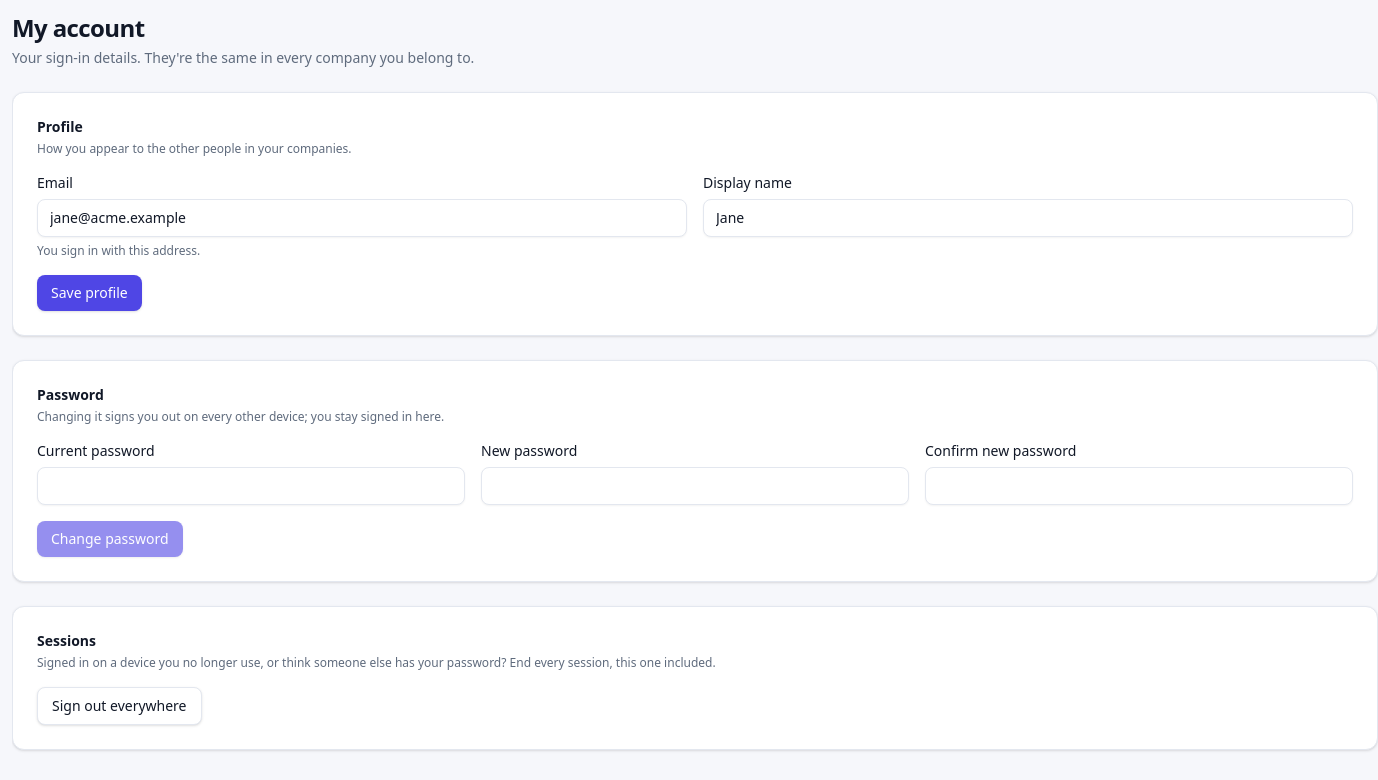
Scenario: AccountPage › does not send mismatched new passwords
Type "Old-Passw0rd!" into the password field labelled "Current password" at (251, 486), box [37,467,465,505]
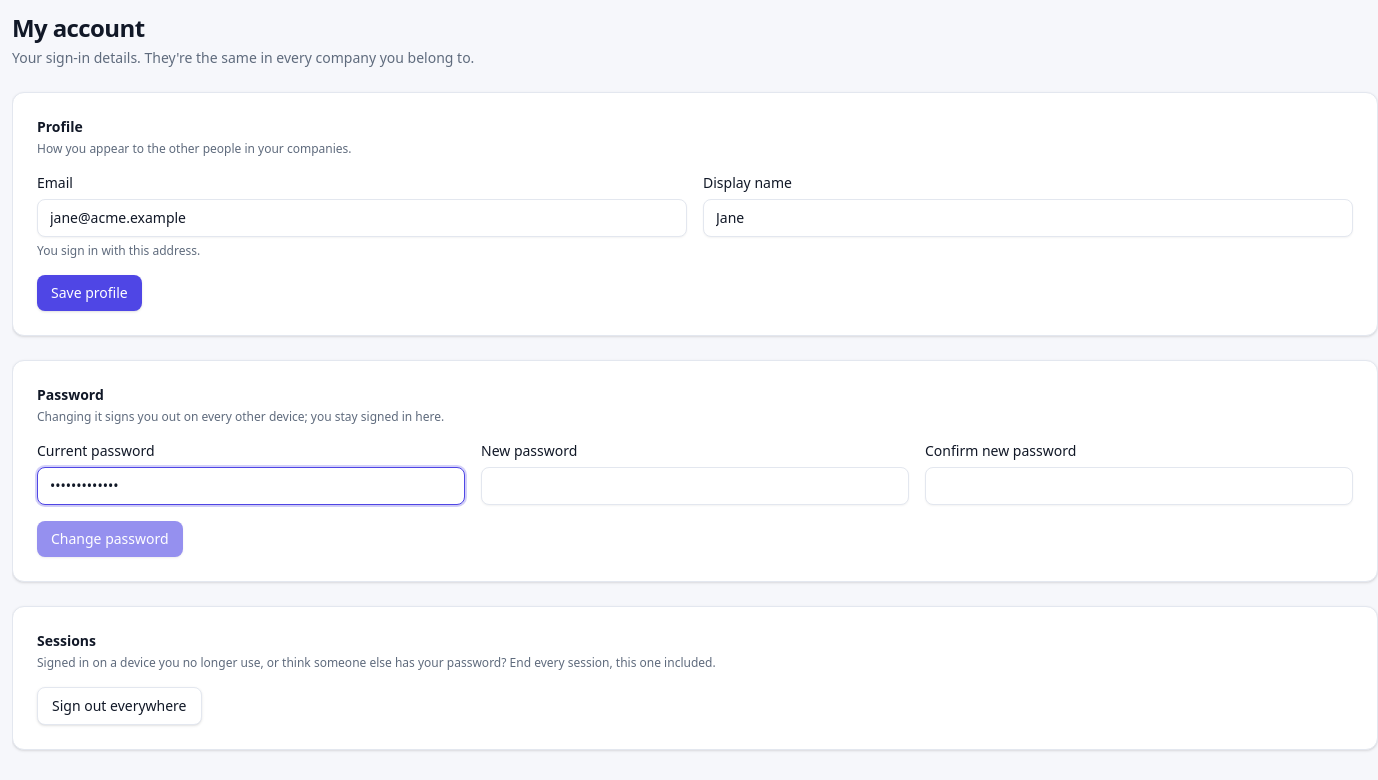
Type "N3w-Passw0rd!" into the password field labelled "New password" at (695, 486), box [481,467,909,505]
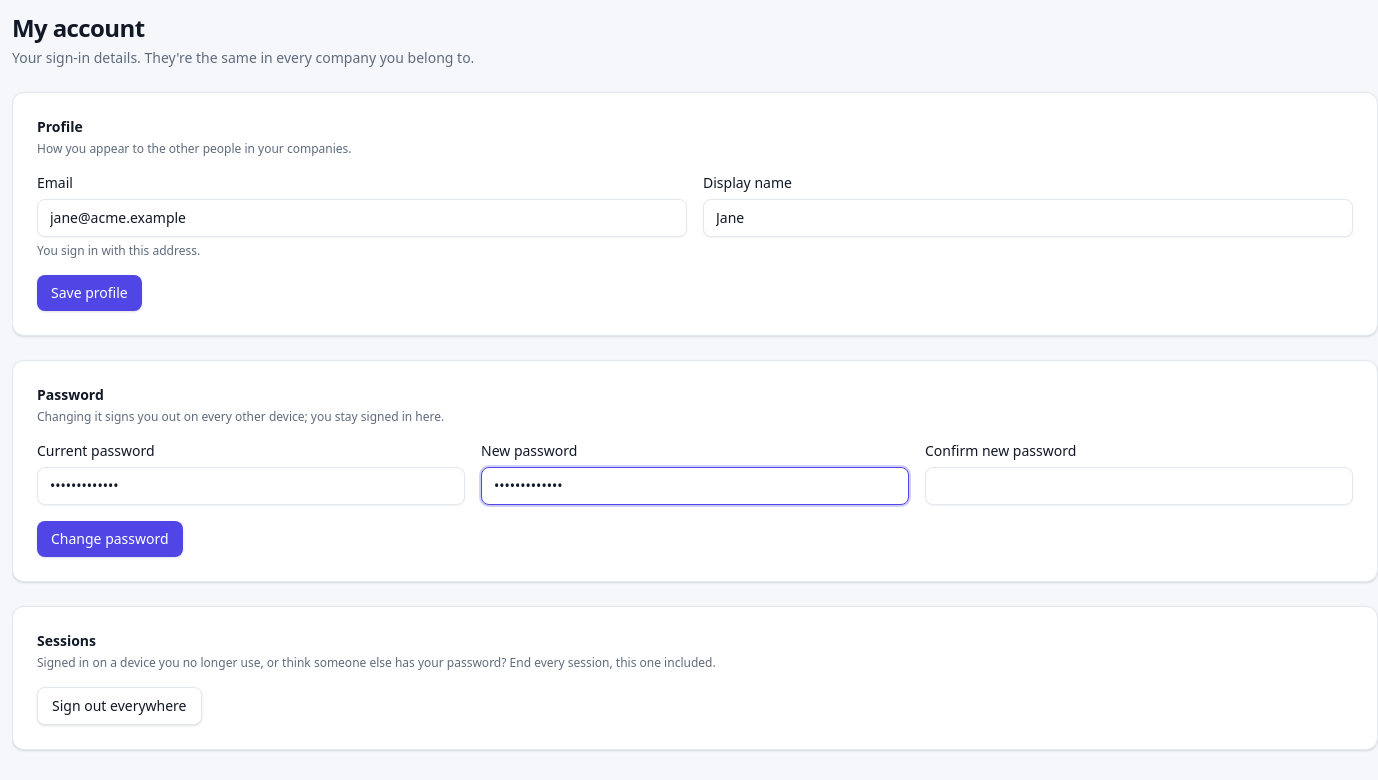
Type "Typo-Passw0rd!" into the password field labelled "Confirm new password" at (1139, 486), box [925,467,1353,505]
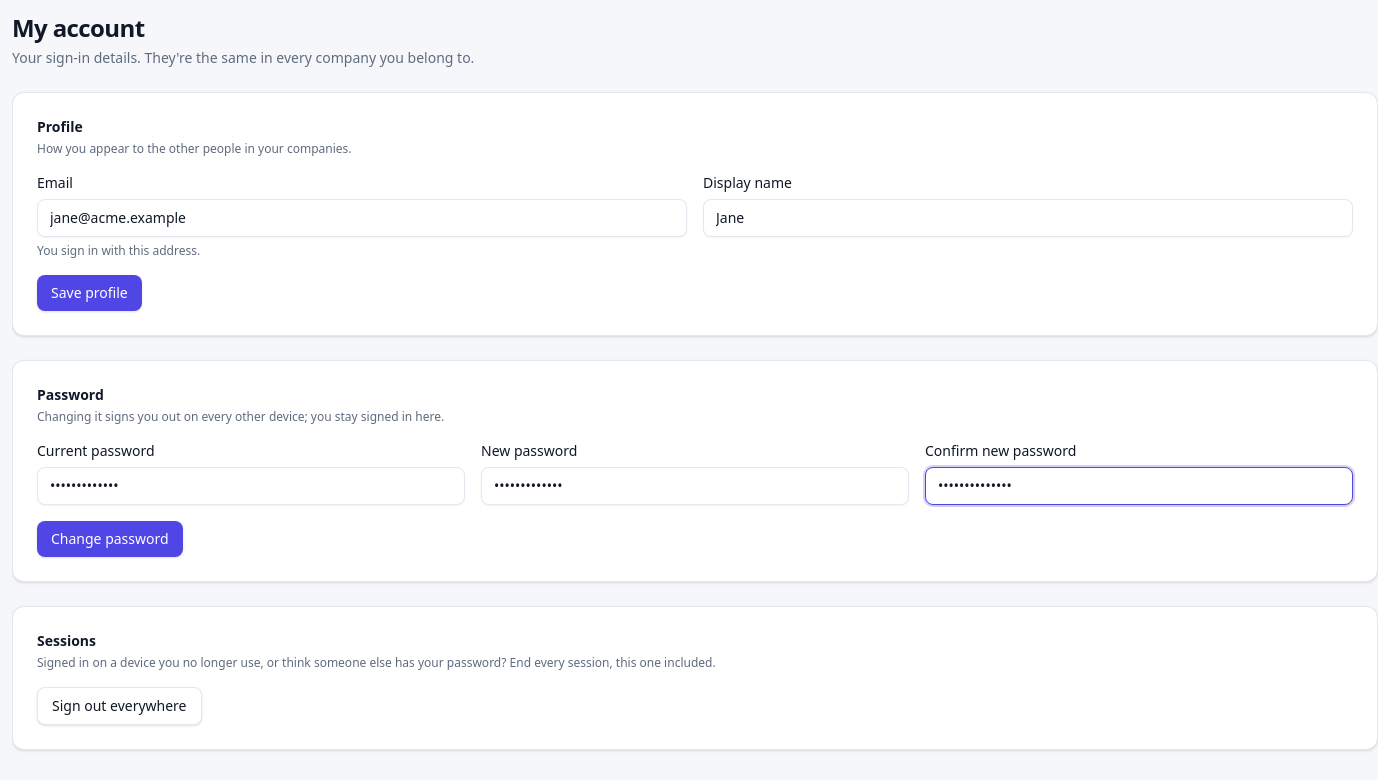
Click the button "Change password" at (110, 539), box [37,521,183,557]
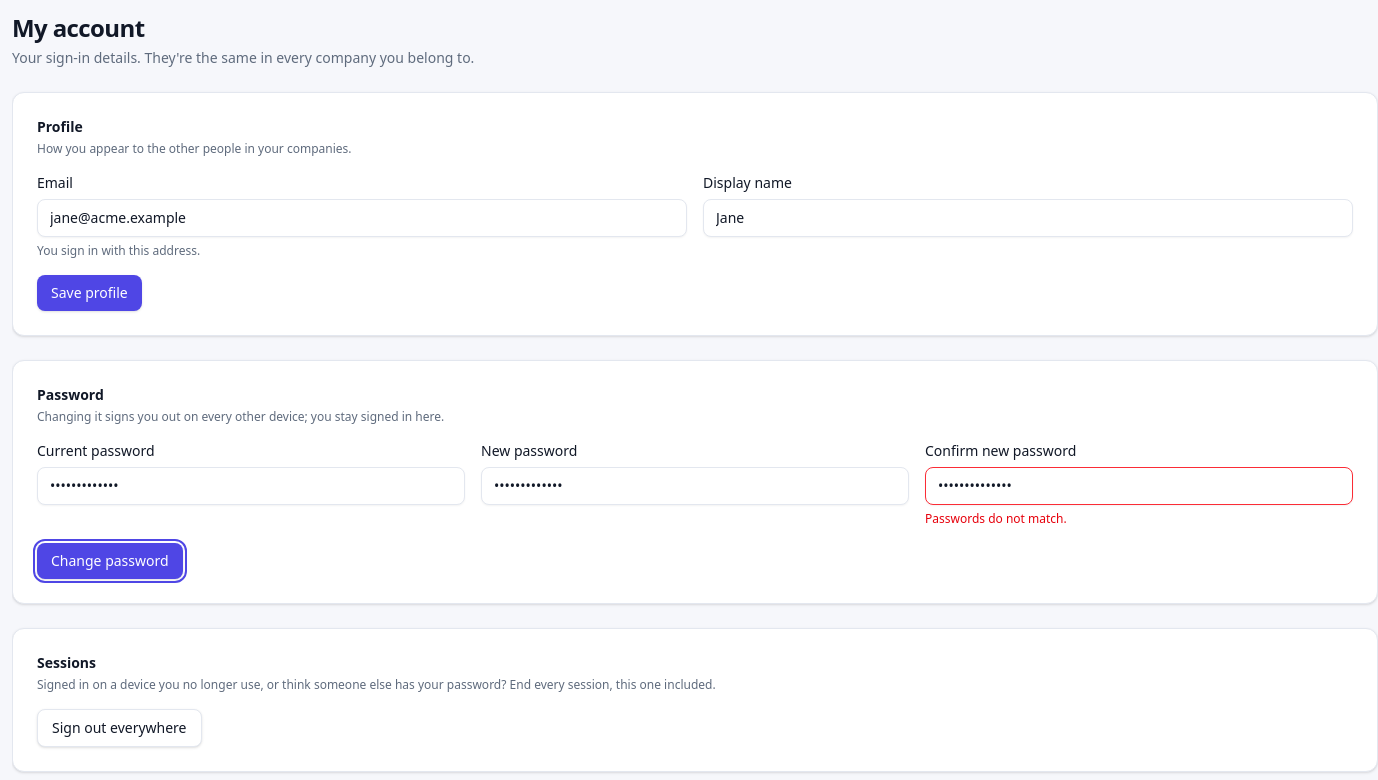
Check: the text "Passwords do not match." is shown, box [925,510,1067,527]
